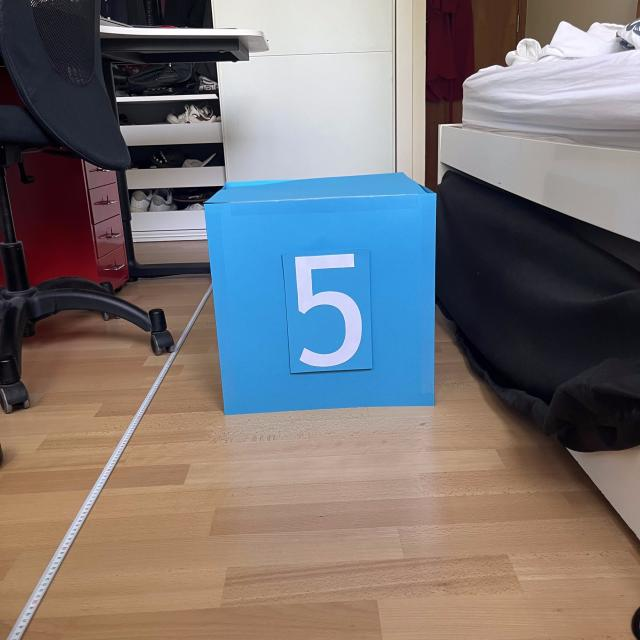box: (198, 168, 440, 417)
